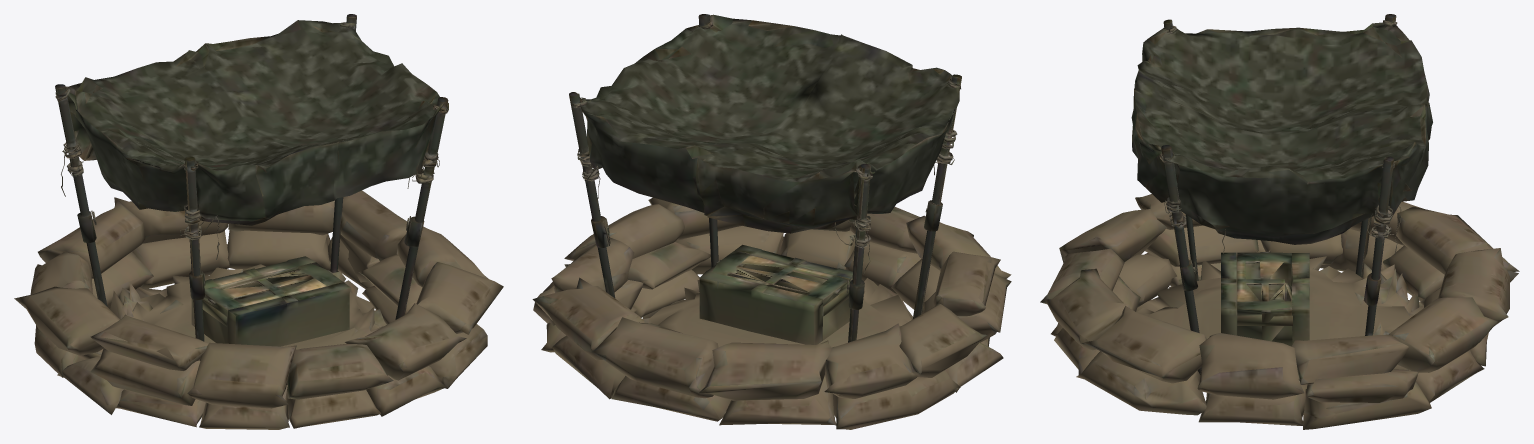
Rendered from l_snipernest.glb.
3 renders of one model, left to right at view 1: azimuth 30°, elevation 25°; view 2: azimuth 150°, elevation 25°; view 3: azimuth 270°, elevation 25°, orthographic.
Bounding box in the file's own units: 0.9327 × 0.5679 × 0.9614.
Materials: 1 (1 with a texture image).
